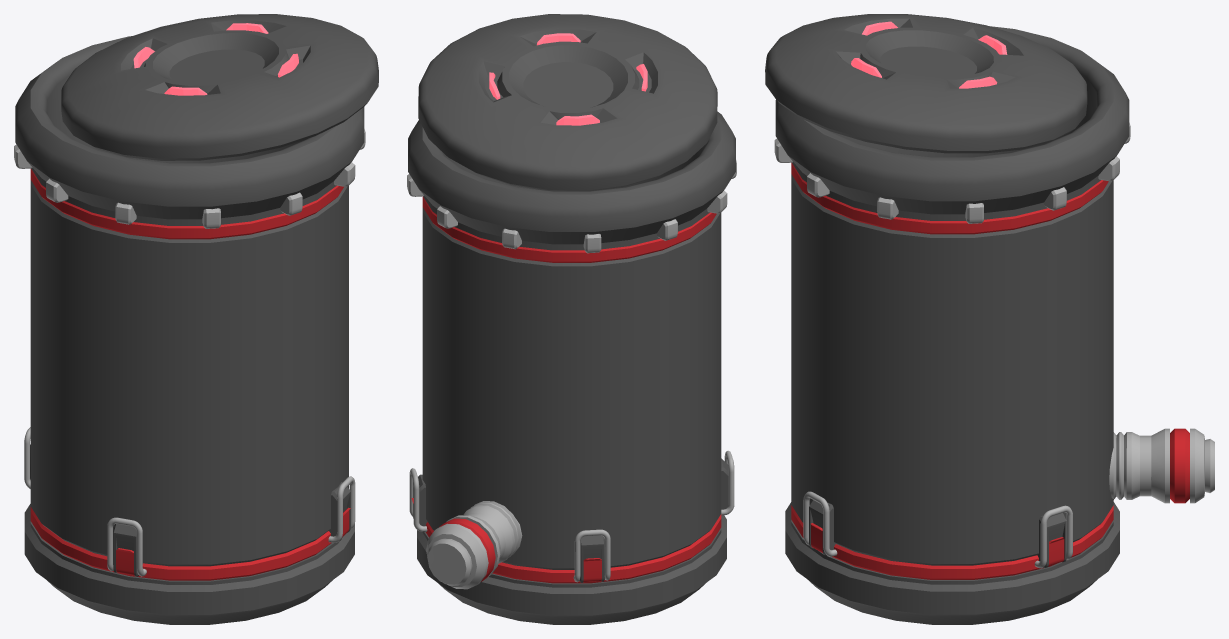
Rendered from misc 4.fbx.
The picture shows the model from 3 angles, left to right: view 1: azimuth 30°, elevation 25°; view 2: azimuth 150°, elevation 25°; view 3: azimuth 270°, elevation 25°; orthographic projection. The views are drawn at different scales.
Visible parts, largest first — view 1: Desirefx.me_CyberAcc_CoffeeTank_PaintBlack, Desirefx.me_CyberAcc_CoffeeTank_PaintRed, Desirefx.me_CyberAcc_CoffeeTank_SteelRaw, Desirefx.me_CyberAcc_CoffeeTank_LightRed; view 2: Desirefx.me_CyberAcc_CoffeeTank_PaintBlack, Desirefx.me_CyberAcc_CoffeeTank_SteelRaw, Desirefx.me_CyberAcc_CoffeeTank_PaintRed, Desirefx.me_CyberAcc_CoffeeTank_LightRed; view 3: Desirefx.me_CyberAcc_CoffeeTank_PaintBlack, Desirefx.me_CyberAcc_CoffeeTank_PaintRed, Desirefx.me_CyberAcc_CoffeeTank_SteelRaw, Desirefx.me_CyberAcc_CoffeeTank_LightRed.
Part boxes in pixels (x1,y1,x2,y2): Desirefx.me_CyberAcc_CoffeeTank_PaintBlack: (15,14,378,624); Desirefx.me_CyberAcc_CoffeeTank_PaintRed: (30,169,350,580); Desirefx.me_CyberAcc_CoffeeTank_SteelRaw: (14,129,365,576); Desirefx.me_CyberAcc_CoffeeTank_LightRed: (133,23,298,95); Desirefx.me_CyberAcc_CoffeeTank_PaintBlack: (408,14,735,624); Desirefx.me_CyberAcc_CoffeeTank_SteelRaw: (407,160,736,589); Desirefx.me_CyberAcc_CoffeeTank_PaintRed: (411,196,721,583); Desirefx.me_CyberAcc_CoffeeTank_LightRed: (489,33,647,125); Desirefx.me_CyberAcc_CoffeeTank_PaintBlack: (765,14,1129,624); Desirefx.me_CyberAcc_CoffeeTank_PaintRed: (791,162,1189,579); Desirefx.me_CyberAcc_CoffeeTank_SteelRaw: (774,122,1214,568); Desirefx.me_CyberAcc_CoffeeTank_LightRed: (851,21,1007,88).
Size of the model in its own units: 1.9 by 3.08 by 2.37.
